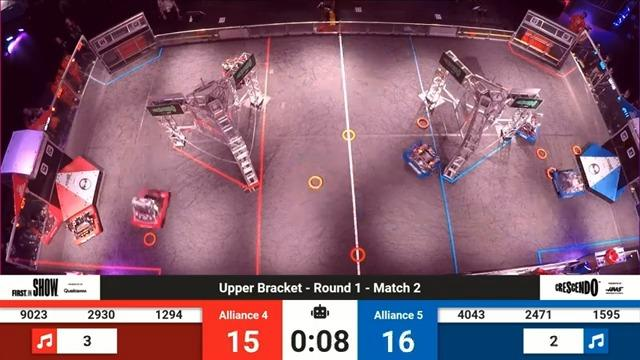robot: (408, 133, 451, 183), (129, 186, 174, 232), (64, 208, 114, 245), (509, 104, 547, 148), (548, 164, 587, 202), (221, 49, 255, 80)
